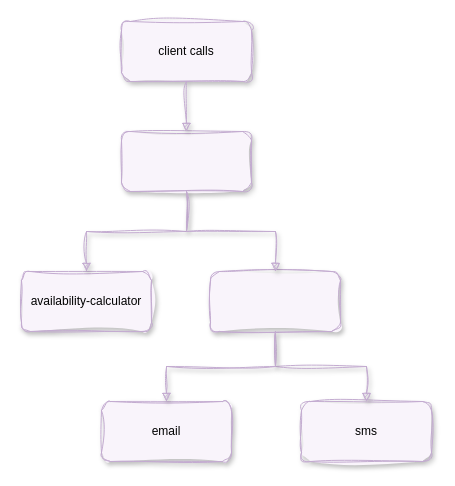
This 455x486 diagram has some shape labels left out. Here are the shapes that lost their labels. From the top down, the centre of each, then its label:
the point at 187,162: hub
the point at 276,302: notification-dispatcher
